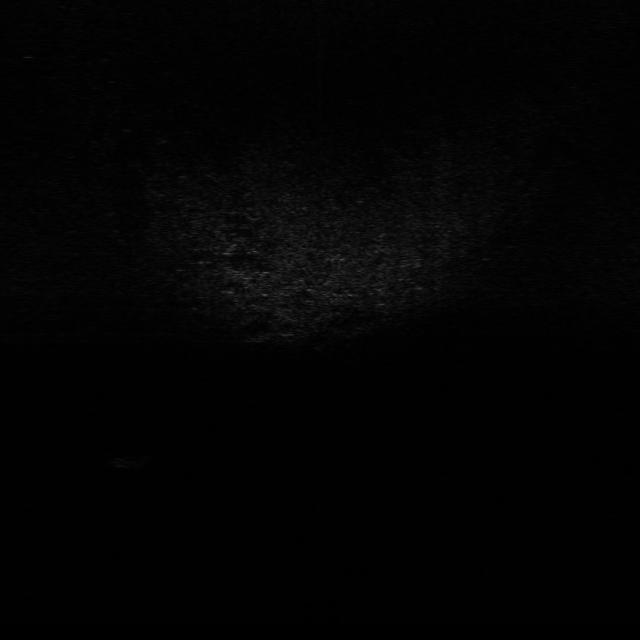cube: (114, 445, 154, 471)
